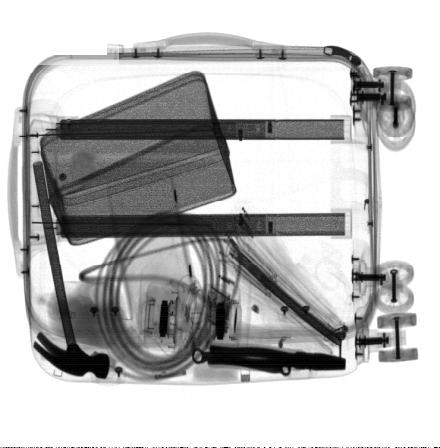Hammer: (30, 157, 111, 380)
Pliers: (207, 343, 352, 370)
Wrench: (192, 348, 293, 378)
